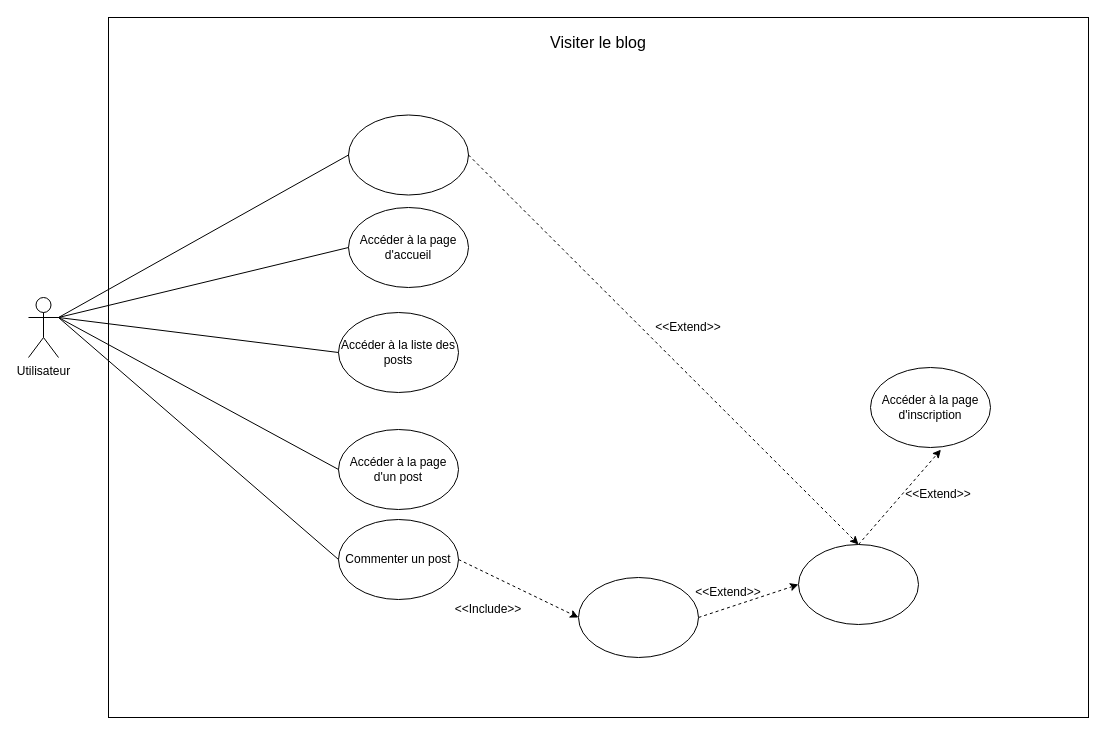
This 1106x735 diagram has some shape labels left out. The centre of each missing label's shape, as x and y in pixels:
Accéder à la page de connexion: (x=408, y=154)
S'inscrire: (x=858, y=584)
Se connecter: (x=638, y=617)
